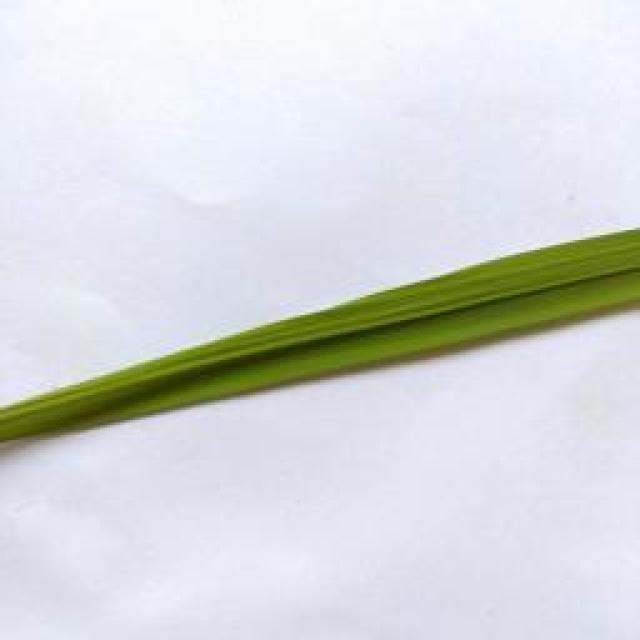Healthy-Plant: (0, 216, 640, 482)
